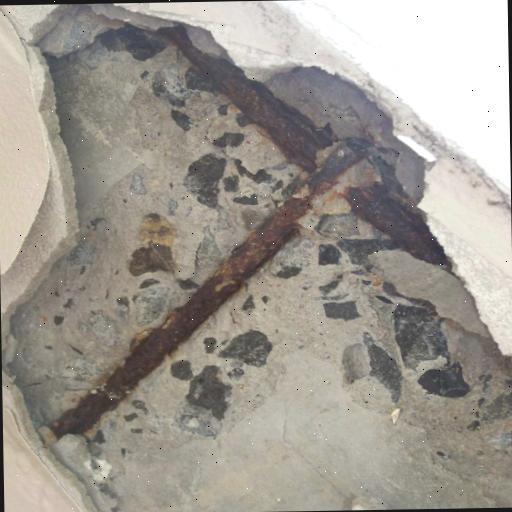spalling: (13, 3, 512, 509)
